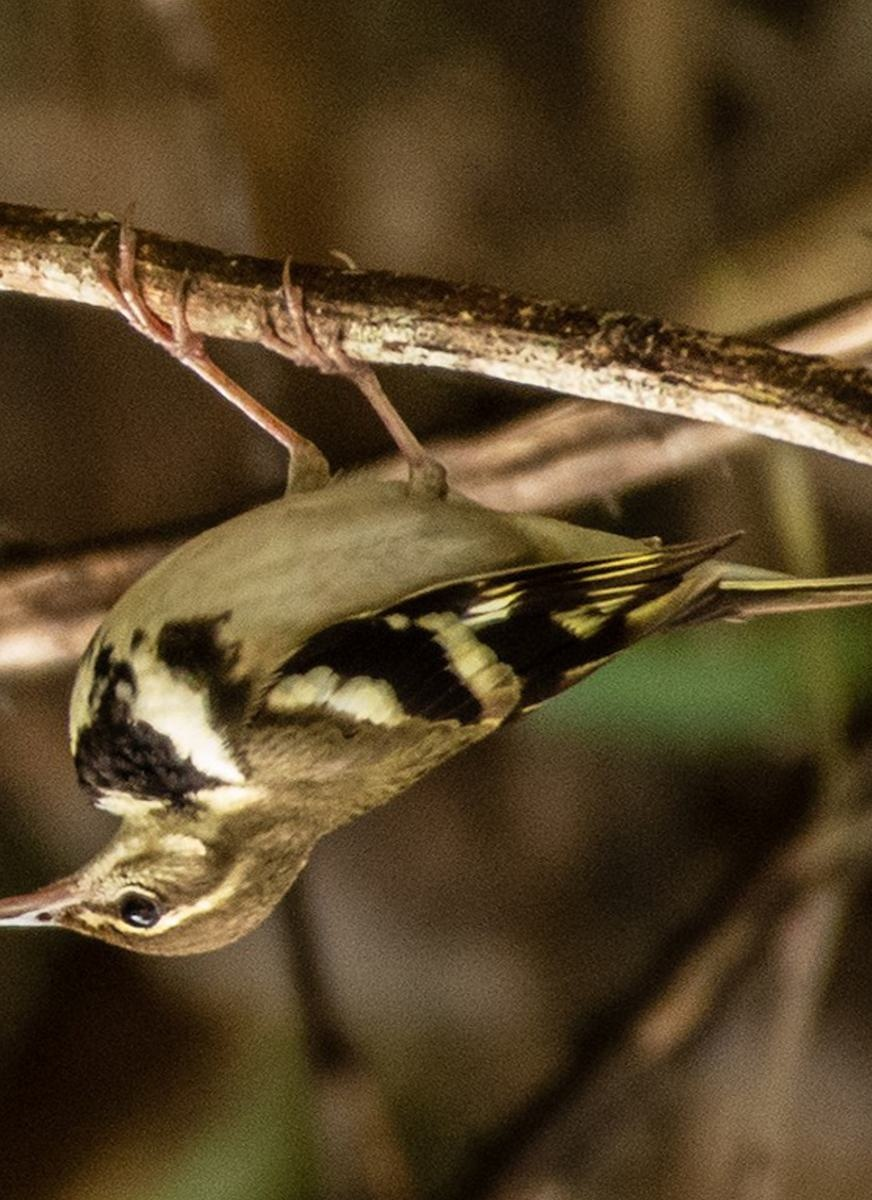wagtail: (4, 330, 835, 962)
